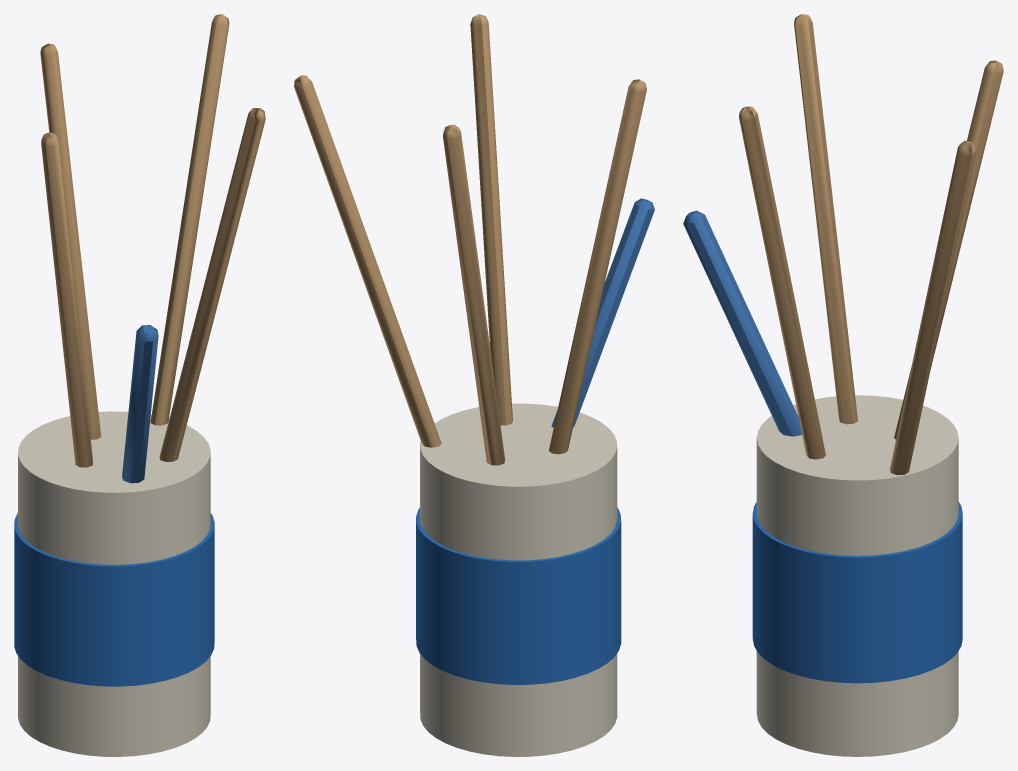
File: LonSuaDac_DungBut.glb
The picture shows the model from 3 angles, left to right: view 1: azimuth 30°, elevation 25°; view 2: azimuth 150°, elevation 25°; view 3: azimuth 270°, elevation 25°; orthographic projection. The views are drawn at different scales.
Visible parts, largest first — view 1: LonSuaDac_DungBut; view 2: LonSuaDac_DungBut; view 3: LonSuaDac_DungBut.
Boxes of the visible parts, x1,y1,x2,y2 form: LonSuaDac_DungBut: (14,14,265,756); LonSuaDac_DungBut: (294,14,654,756); LonSuaDac_DungBut: (683,14,1003,756).
Bounding box in the file's own units: 0.1152 × 0.26 × 0.1156.
